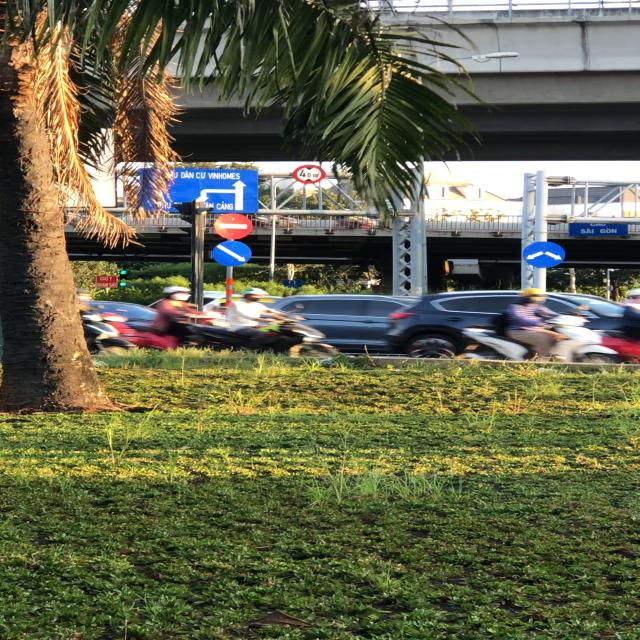Bien bao cam di nguoc chieu: (209, 211, 259, 241)
Bien bao han che chieu cao: (292, 162, 328, 185)
Bien bao huong phai di vong chuong ngai vat: (520, 240, 568, 270), (211, 240, 257, 269)
